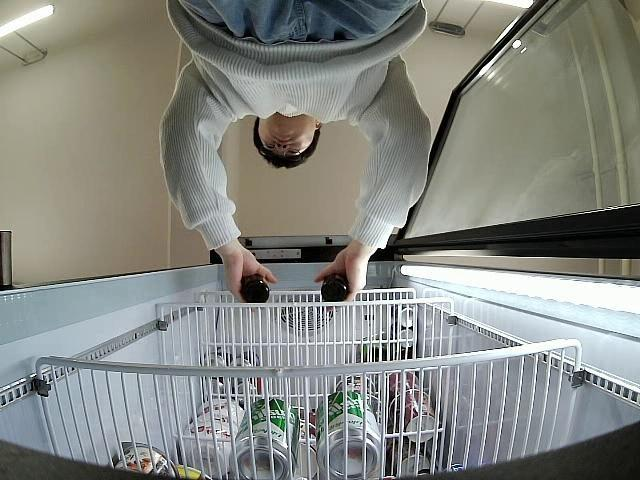17_vita500: (240, 275, 268, 302), (322, 274, 349, 300)
